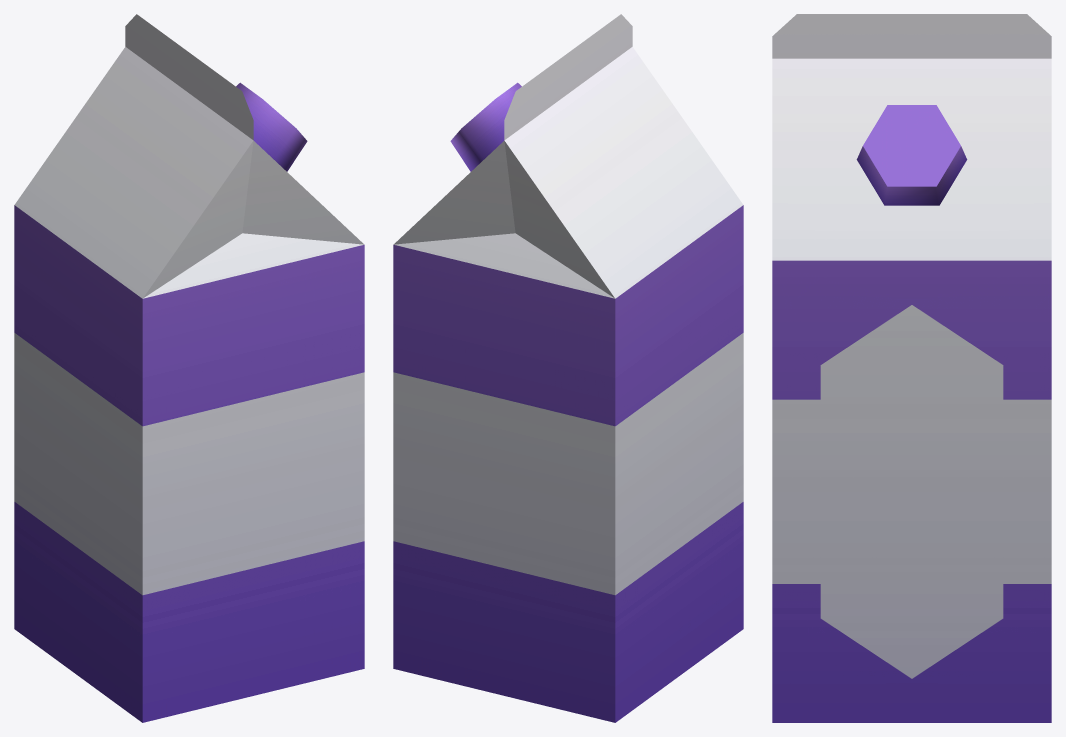
File: milk.glb
3 views of the same model, side by side, from view 1: azimuth 30°, elevation 25°; view 2: azimuth 150°, elevation 25°; view 3: azimuth 270°, elevation 25° (orthographic). The views are drawn at different scales.
Parts seen in each view (by area): view 1: carton; view 2: carton; view 3: carton.
Boxes of the visible parts, x1,y1,x2,y2 form: carton: [14, 14, 364, 722]; carton: [393, 14, 743, 722]; carton: [772, 14, 1051, 722].
Size of the model in its own units: 0.0779 by 0.2 by 0.0779.
1 material, 1 textured.
